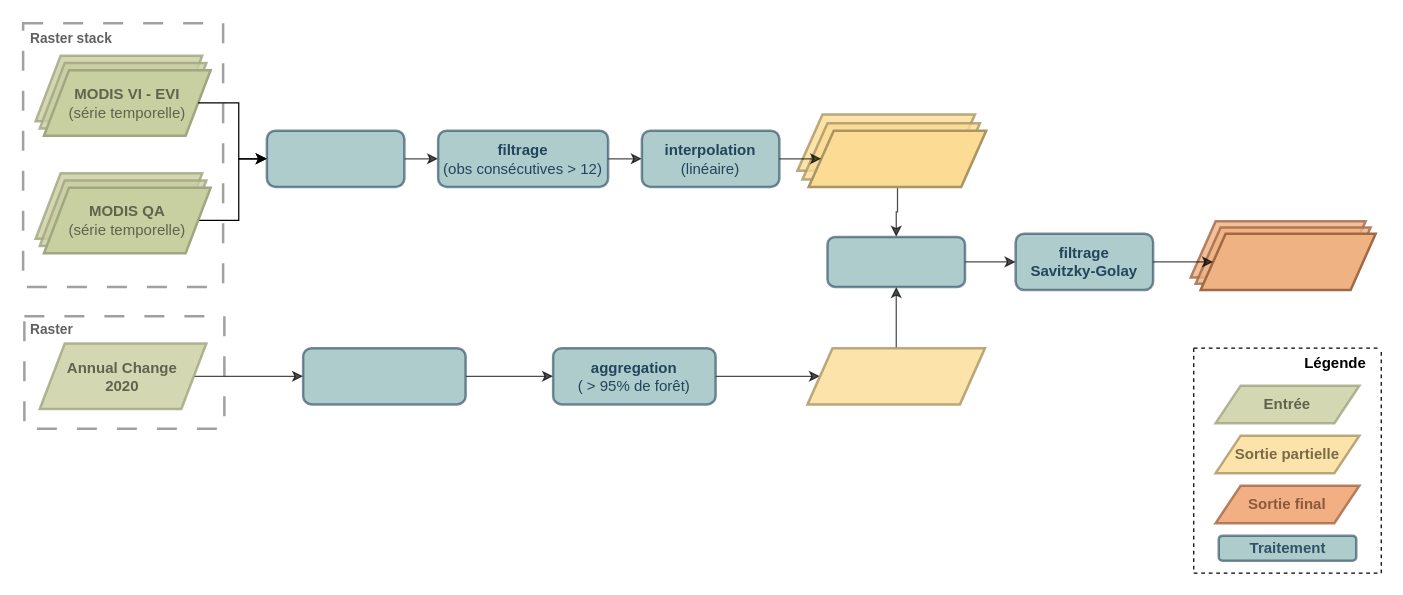
The diagram is 1403 pixels wide and 595 high, and some of its shapes have lost their labels. Each missing label, with the centre of its shape:
"couverture forestière 2020" belongs at (896,375).
"EVI lissé" belongs at (1287,261).
"EVI rempli" belongs at (897,158).
"masquage" belongs at (896,261).
"masquage (pixels fiables)" belongs at (335,158).
"reclassification (forêt non pertubée)" belongs at (383,375).
